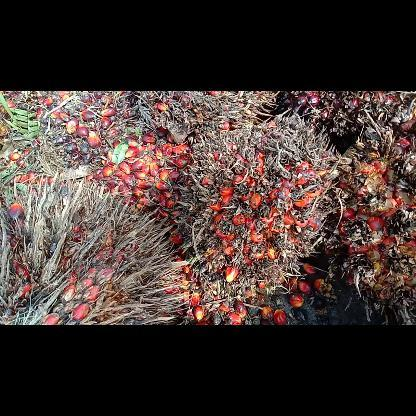Terlalu masak: (176, 115, 342, 300), (0, 172, 195, 325), (330, 124, 414, 324)
